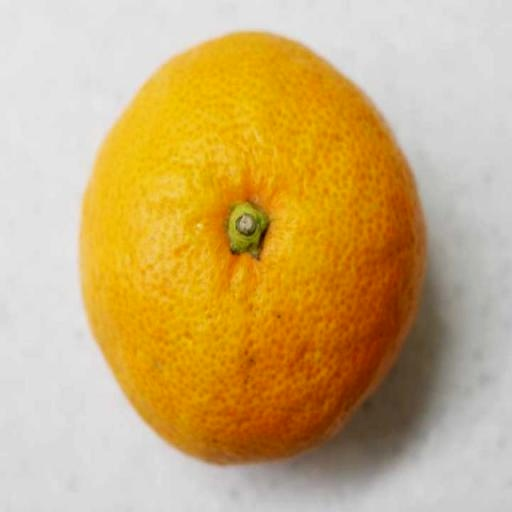fruit: (80, 33, 424, 462)
